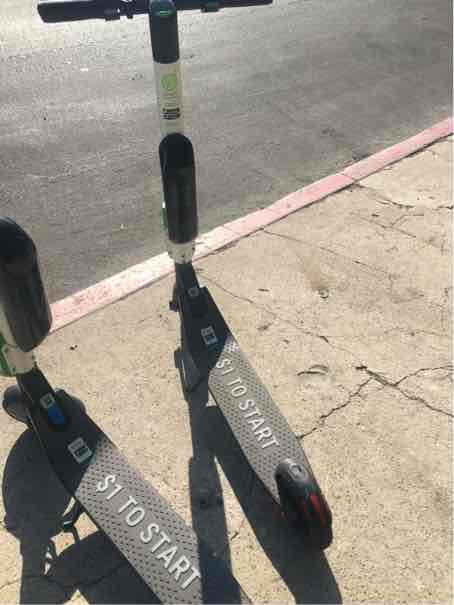scooter: (30, 21, 339, 594)
